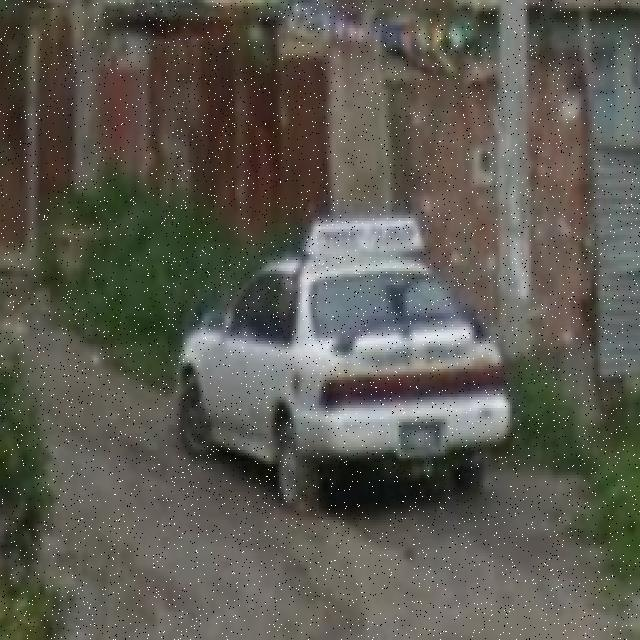cars: (187, 242, 504, 501)
